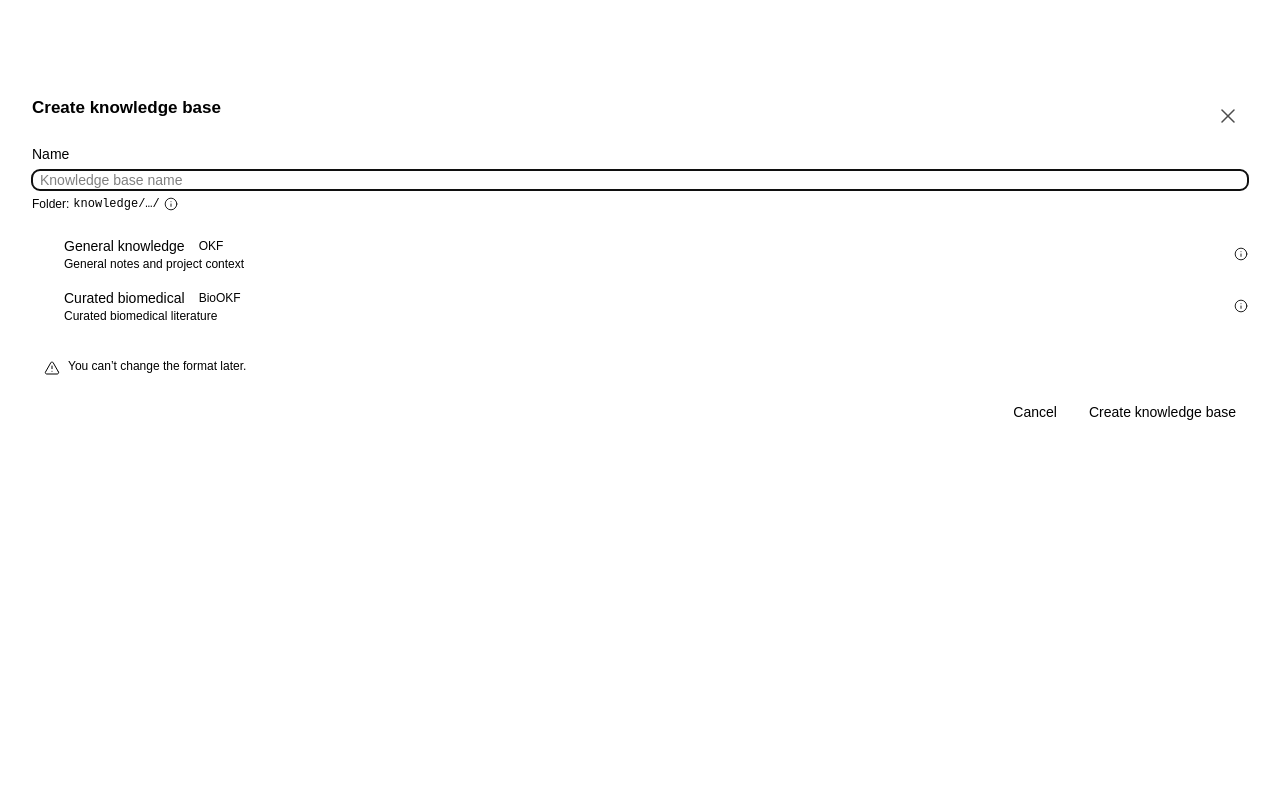
it: KbFormatChooser, a name that cannot be used › refuses a name with no letters or numbers the same way
The width and height of the screenshot is (1280, 800).
In the field with test id "knowledge-format-name": (640, 180) x1=32 y1=170 x2=1248 y2=190, type "!!!"
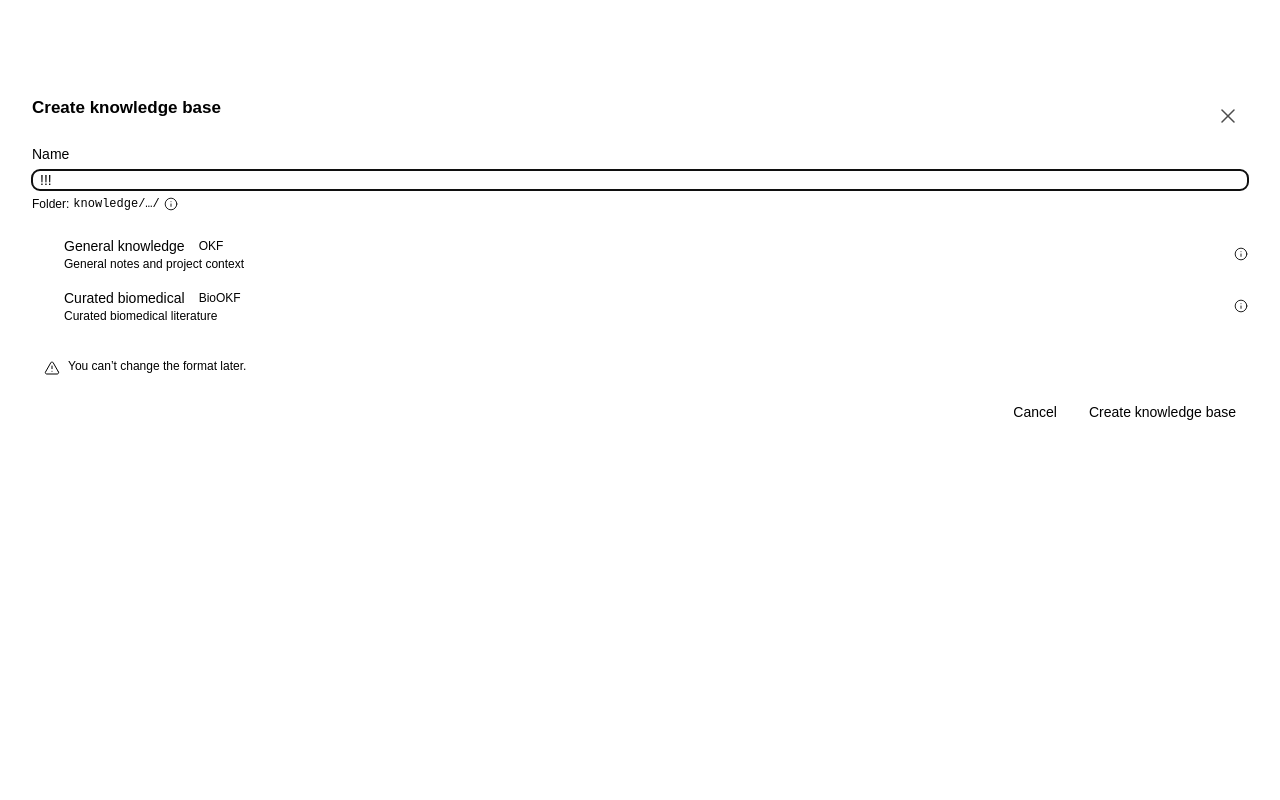
Click the button with test id "knowledge-format-submit": (1162, 412) x1=1077 y1=402 x2=1248 y2=422
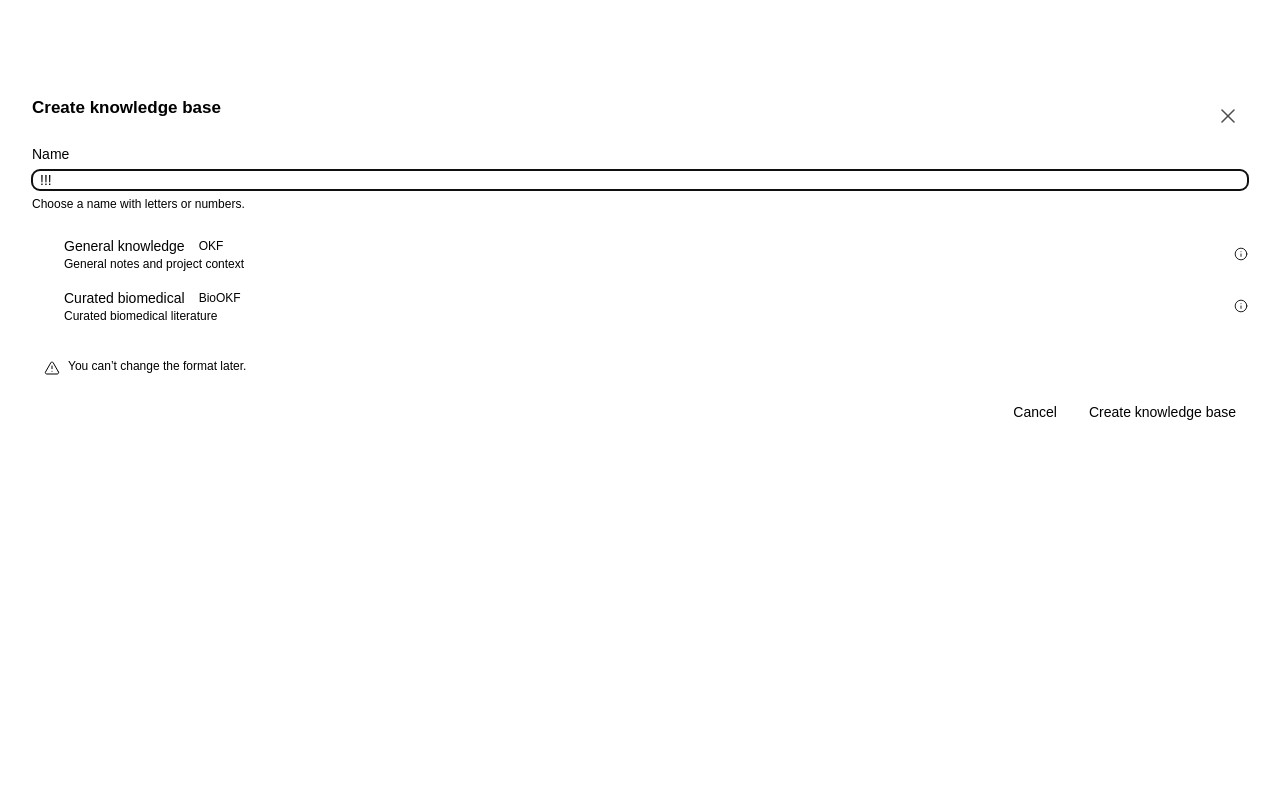
Expected: the message reads "Choose a name with letters or numbers.", x1=32 y1=197 x2=245 y2=211
